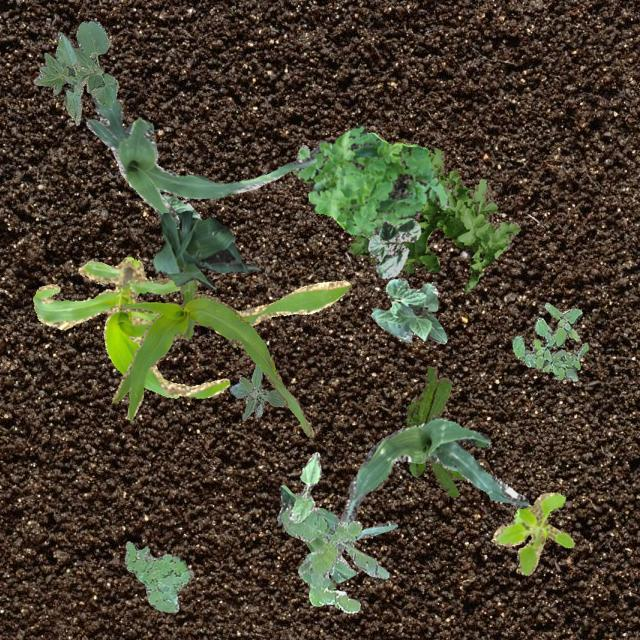crop: (32, 255, 350, 398), (111, 278, 312, 436), (86, 90, 316, 228), (336, 416, 528, 558), (276, 484, 396, 582), (32, 20, 118, 124), (152, 210, 260, 288), (371, 278, 446, 342), (366, 218, 419, 278), (288, 451, 320, 522), (157, 188, 200, 222)
weed: (288, 140, 520, 290), (296, 124, 448, 238), (280, 506, 388, 612), (406, 366, 464, 496), (490, 492, 572, 574), (511, 302, 586, 379), (124, 540, 192, 612), (228, 364, 286, 420)
